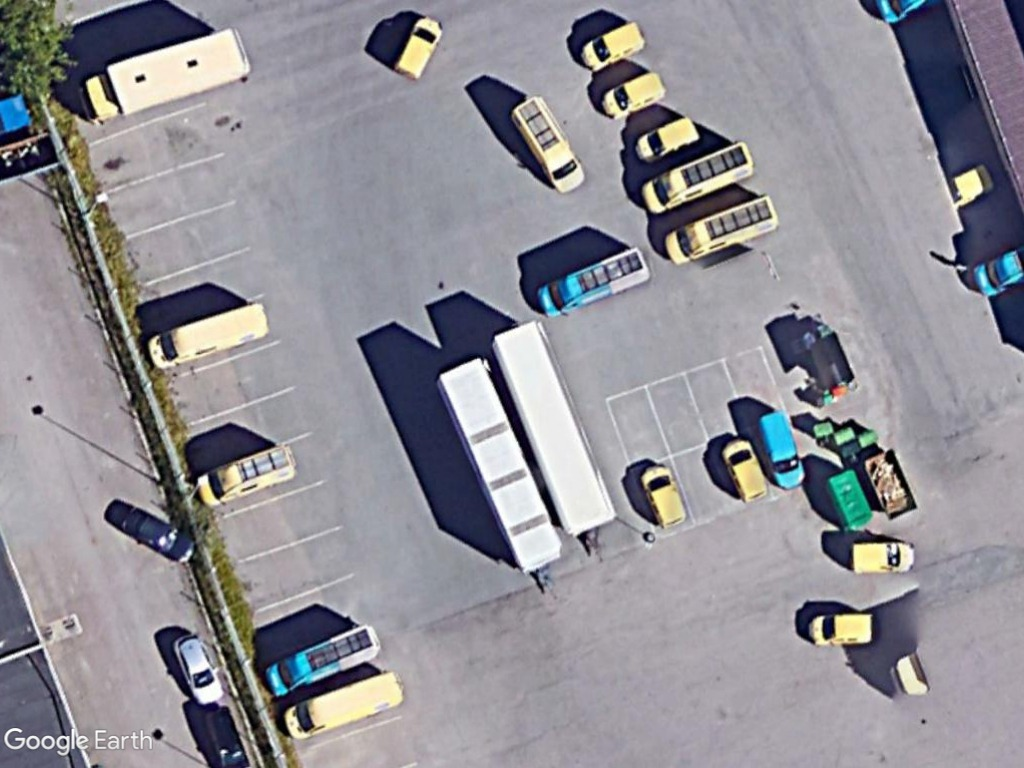car: (118, 502, 198, 567), (168, 625, 229, 708)
truck: (68, 27, 257, 132)
van: (260, 622, 385, 703), (143, 299, 275, 375), (657, 192, 785, 269), (278, 669, 411, 742), (639, 138, 759, 218), (532, 243, 652, 320), (504, 95, 588, 196), (195, 441, 302, 507), (754, 408, 808, 495), (598, 68, 671, 124), (577, 20, 651, 74), (391, 12, 447, 83), (717, 433, 772, 504), (638, 461, 691, 531), (632, 114, 704, 165), (804, 607, 877, 649), (847, 538, 918, 578)
